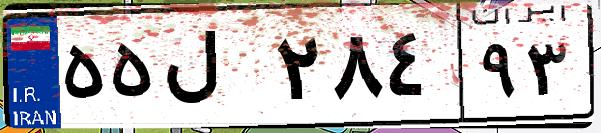2: (270, 28, 330, 110)
3: (525, 38, 570, 115)
4: (385, 28, 445, 110)
5: (57, 26, 110, 100), (110, 28, 158, 98)
8: (330, 28, 385, 110)
9: (475, 38, 525, 113)
ل: (158, 20, 270, 120)
